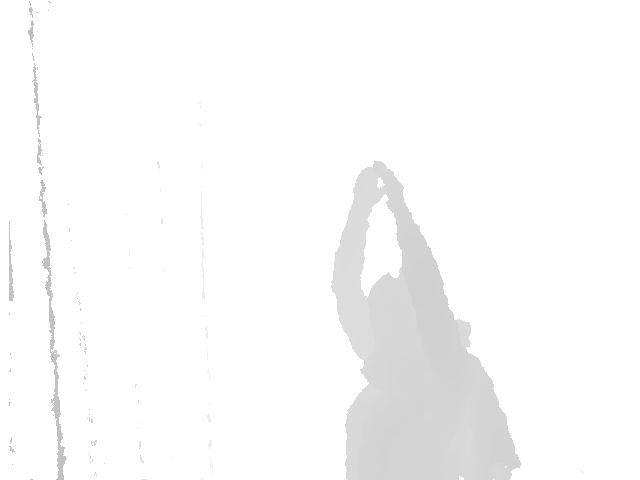hand: (374, 159, 407, 211), (354, 166, 386, 205)
head: (366, 273, 469, 382)
person: (332, 158, 520, 479)
